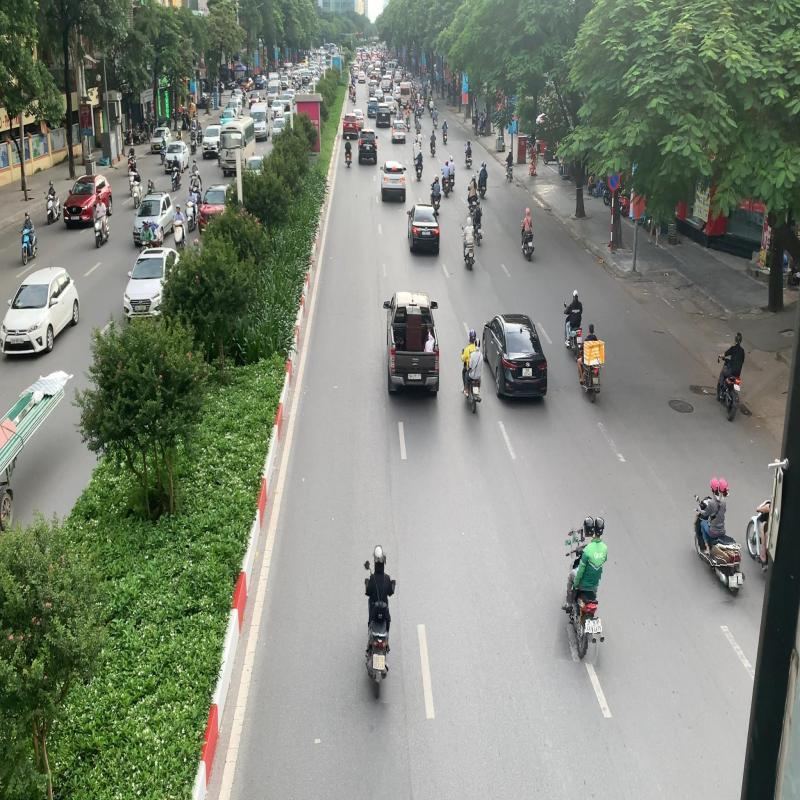helmet: (582, 514, 595, 537), (372, 546, 385, 565), (718, 477, 730, 497)
licenseplate: (591, 617, 602, 634), (376, 655, 386, 669), (728, 576, 738, 589)
motorcyclist: (558, 512, 614, 664), (690, 472, 746, 604), (358, 540, 400, 704)
